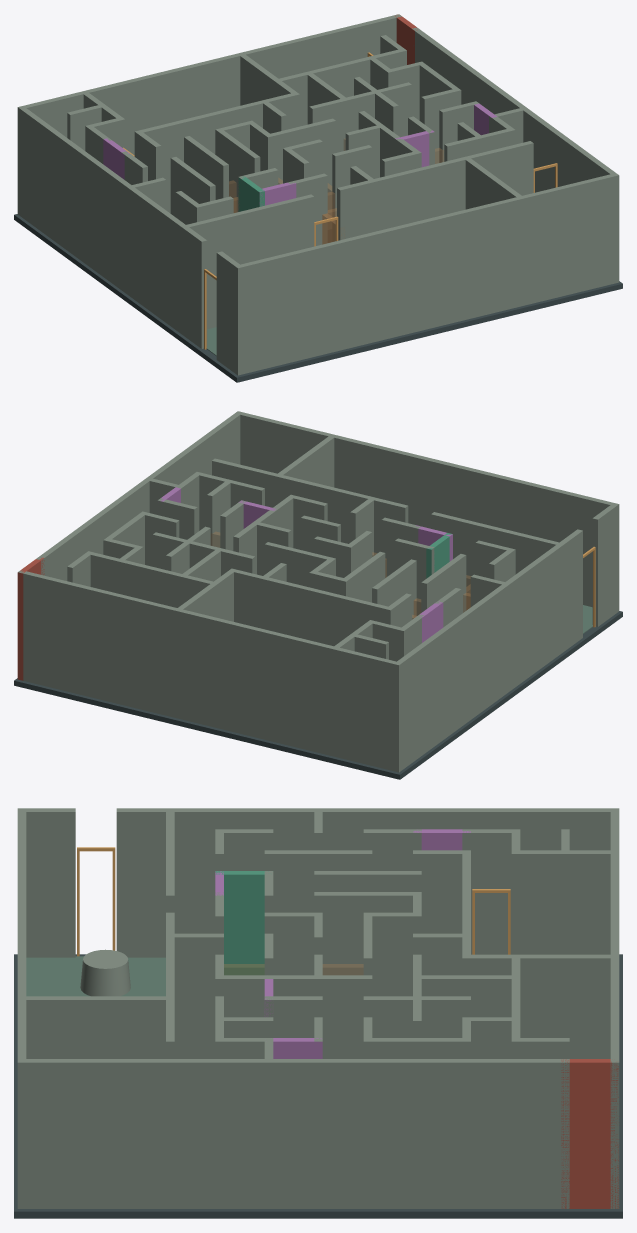
Rendered from Quy-Mu-REV-P-S2.glb.
3 views of the same model, one above another, from view 1: azimuth 30°, elevation 25°; view 2: azimuth 150°, elevation 25°; view 3: azimuth 270°, elevation 25° (orthographic). The views are drawn at different scales.
Visible parts, largest first — view 1: object 24, object 25, object 1, object 23, object 50, object 22, object 57, object 5, object 8, object 4, object 26, object 44 (+38 smaller); view 2: object 1, object 25, object 24, object 5, object 50, object 57, object 23, object 4, object 22, object 26, object 39, object 8 (+40 smaller); view 3: object 50, object 25, object 30, object 39, object 44, object 57, object 26, C06, object 41, object 38, object 27, object 34 (+33 smaller).
Boxes of the visible parts, <box> form: object 24: <box>234,174,619,375</box>; object 25: <box>17,106,207,348</box>; object 1: <box>17,14,401,216</box>; object 23: <box>337,141,533,240</box>; object 50: <box>412,27,619,283</box>; object 22: <box>180,194,314,335</box>; object 57: <box>14,214,622,382</box>; object 5: <box>134,92,299,213</box>; object 8: <box>309,82,411,152</box>; object 4: <box>273,48,406,126</box>; object 26: <box>216,251,243,374</box>; object 44: <box>465,156,525,306</box>; object 1: <box>18,570,402,772</box>; object 25: <box>393,529,582,771</box>; object 24: <box>235,411,619,611</box>; object 5: <box>229,568,393,646</box>; object 50: <box>36,412,242,580</box>; object 57: <box>14,611,622,779</box>; object 23: <box>212,458,408,555</box>; object 4: <box>87,551,218,617</box>; object 22: <box>431,512,564,652</box>; object 26: <box>592,504,619,626</box>; object 39: <box>174,569,236,718</box>; object 8: <box>152,532,255,575</box>; object 50: <box>17,1059,569,1208</box>; object 25: <box>116,808,619,957</box>; object 30: <box>511,850,619,954</box>; object 39: <box>463,954,618,1058</box>; object 44: <box>17,996,174,1058</box>; object 57: <box>14,954,622,1218</box>; object 26: <box>17,808,75,957</box>; C06: <box>561,1059,619,1208</box>; object 41: <box>215,975,372,1058</box>; object 38: <box>166,933,223,1058</box>; object 27: <box>462,829,519,954</box>; object 34: <box>314,892,421,975</box>.
Size of the model in its own units: 11.3 by 3.16 by 11.3.
